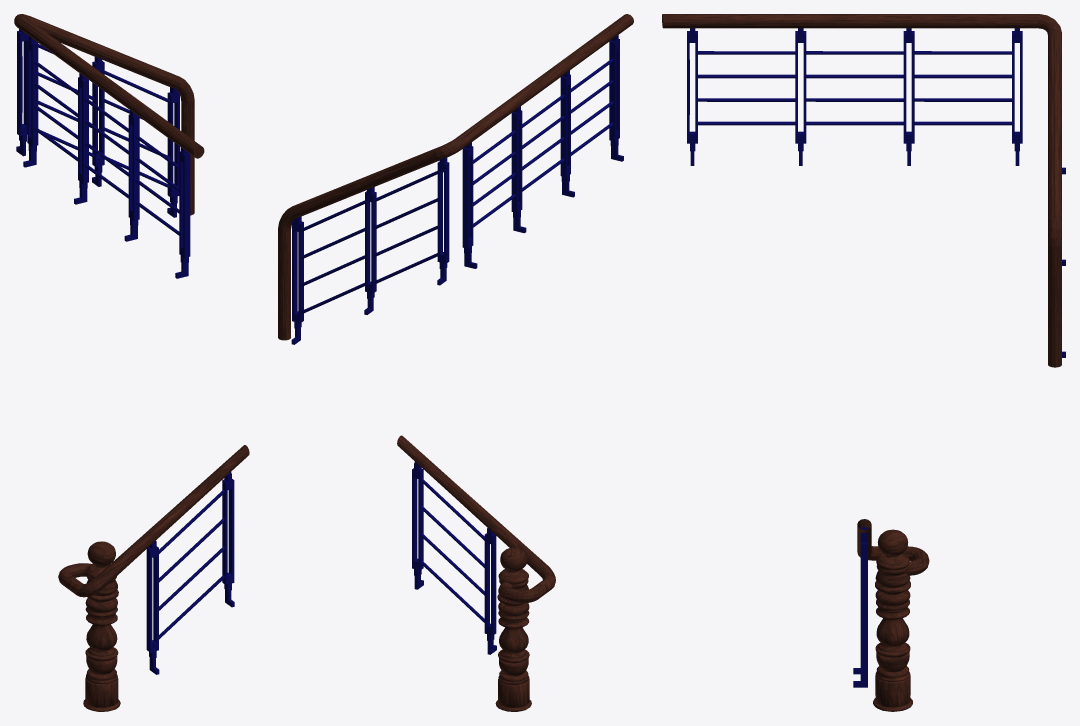
Rendered from StairHandrail.fbx.
3 views of the same model, side by side, from view 1: azimuth 30°, elevation 25°; view 2: azimuth 150°, elevation 25°; view 3: azimuth 270°, elevation 25° (orthographic). The views are drawn at different scales.
Visible parts, largest first — view 1: Stair_Handrail; view 2: Stair_Handrail; view 3: Stair_Handrail.
Part boxes in pixels (x1,y1,x2,y2): Stair_Handrail: [14, 14, 249, 711]; Stair_Handrail: [278, 14, 633, 711]; Stair_Handrail: [662, 14, 1065, 711].
Size of the model in its own units: 138 by 418 by 224.
2 materials, 1 textured.
